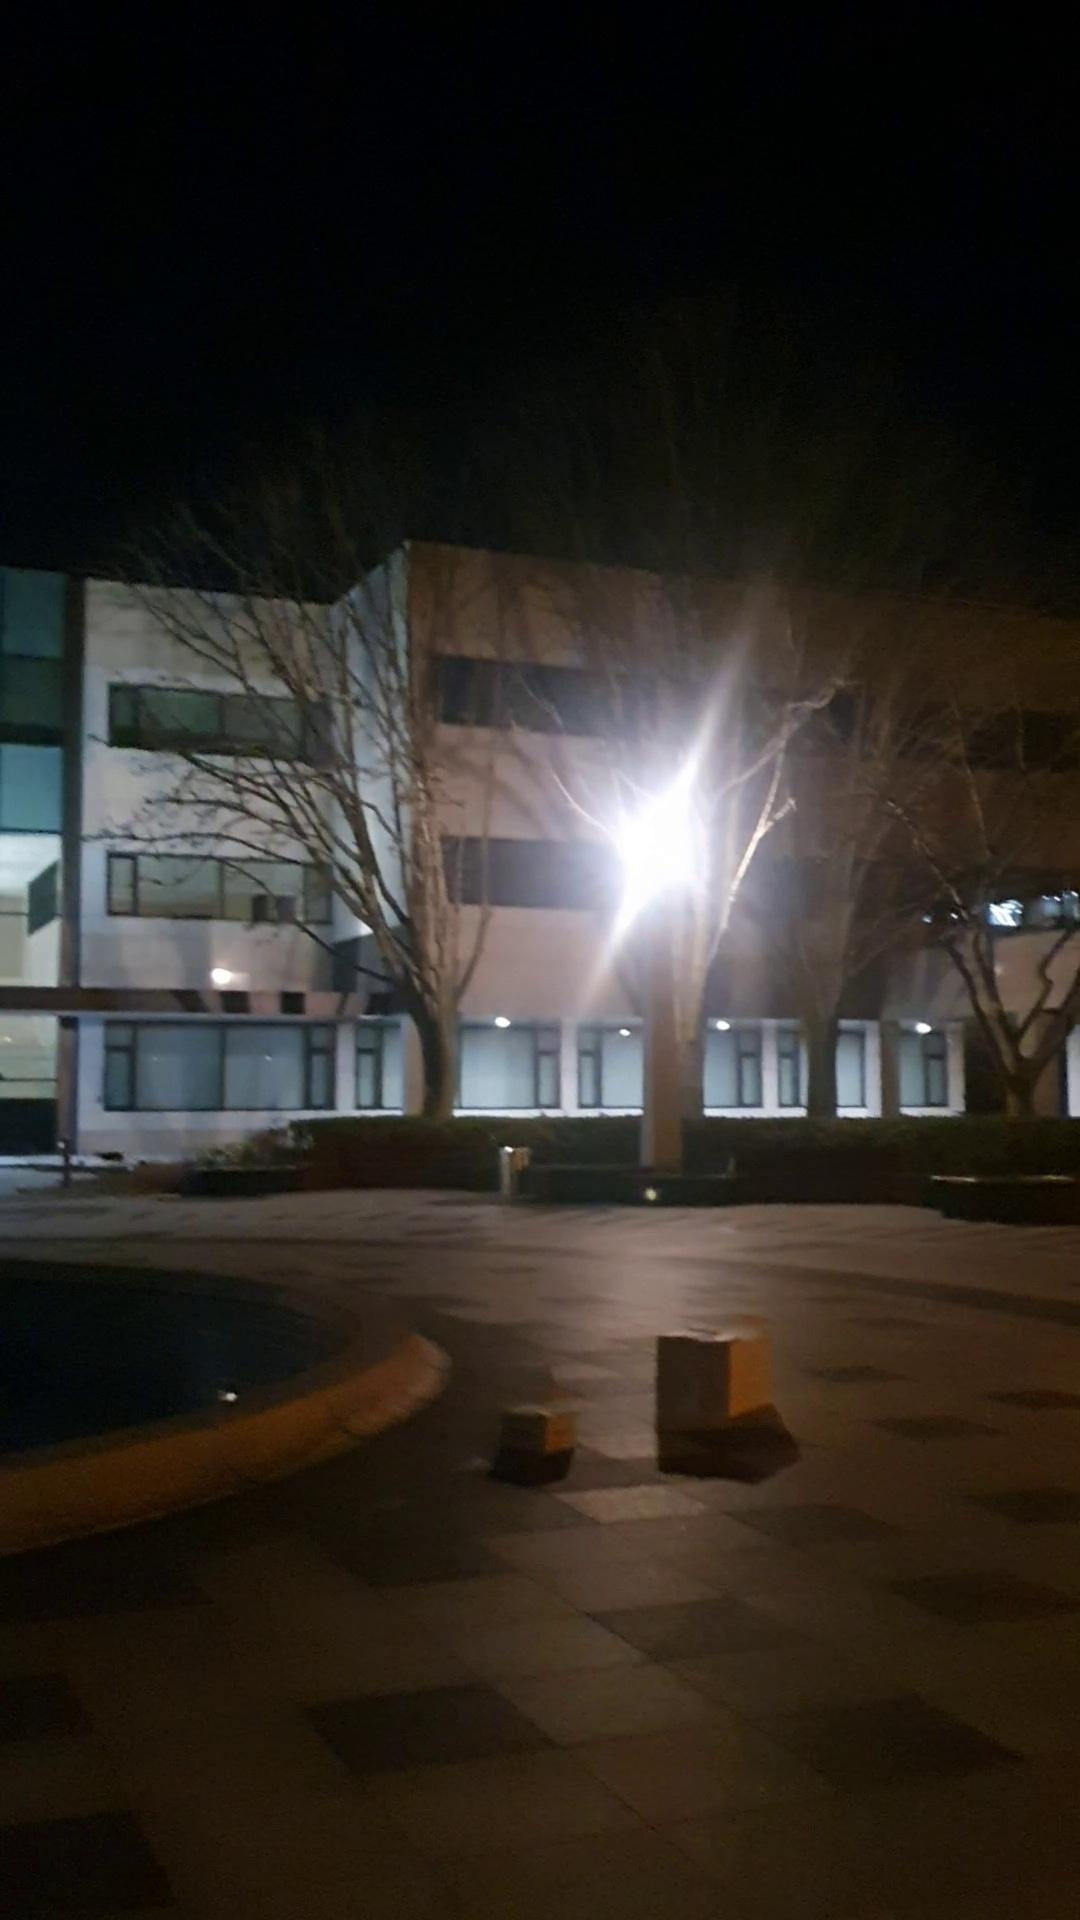Box: (646, 1308, 771, 1443), (496, 1398, 589, 1470)
